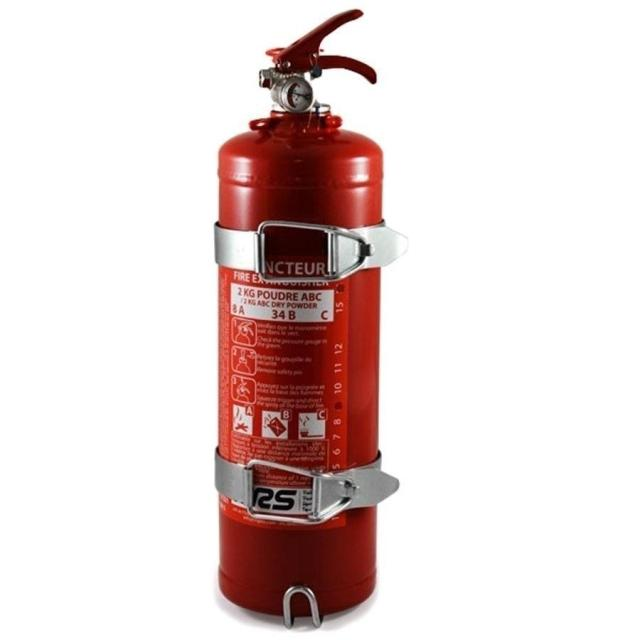fire_extinguisher: (208, 5, 390, 621)
